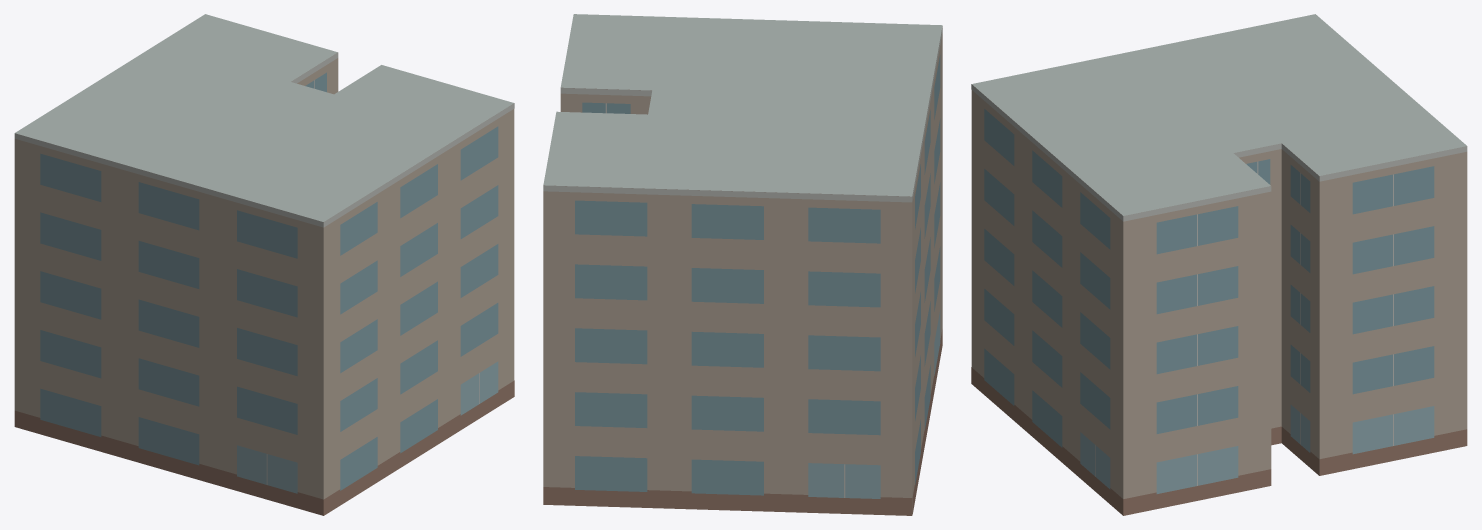
The model's file is survey-upis-32738301.glb.
3 renders of one model, left to right at view 1: azimuth 30°, elevation 25°; view 2: azimuth 150°, elevation 25°; view 3: azimuth 270°, elevation 25°, orthographic. The views are drawn at different scales.
Visible parts, largest first — view 1: survey-upis-32738301.tmp; view 2: survey-upis-32738301.tmp; view 3: survey-upis-32738301.tmp.
Boxes of the visible parts, x1=… form: survey-upis-32738301.tmp: x1=14, y1=14, x2=514, y2=515; survey-upis-32738301.tmp: x1=543, y1=14, x2=942, y2=515; survey-upis-32738301.tmp: x1=971, y1=14, x2=1467, y2=515.
Size of the model in its own units: 18.94 by 13.1 by 19.64.
